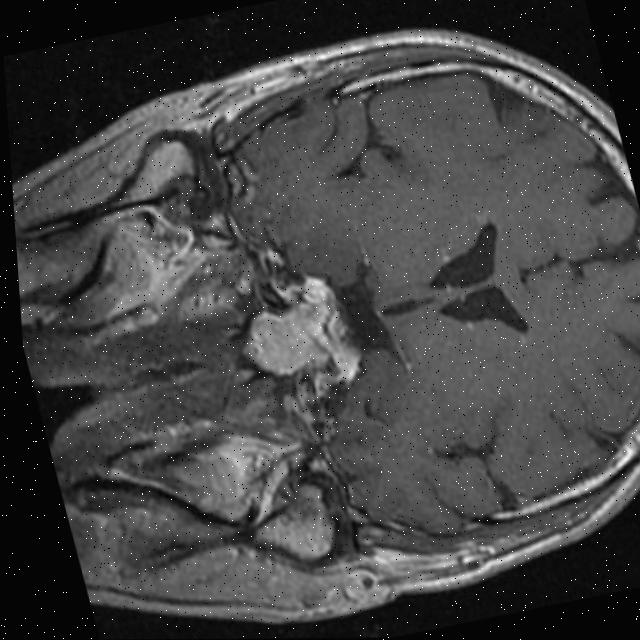Pituitary: (230, 294, 344, 383)
